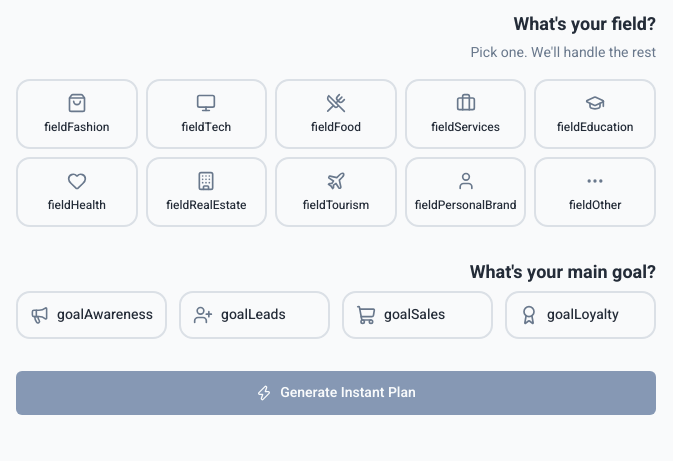
Scenario: ExpressWizard › shows auto-select info text after selecting both
The width and height of the screenshot is (673, 461).
Click the button "fieldFashion": [77, 114] box [16,79,138,149]
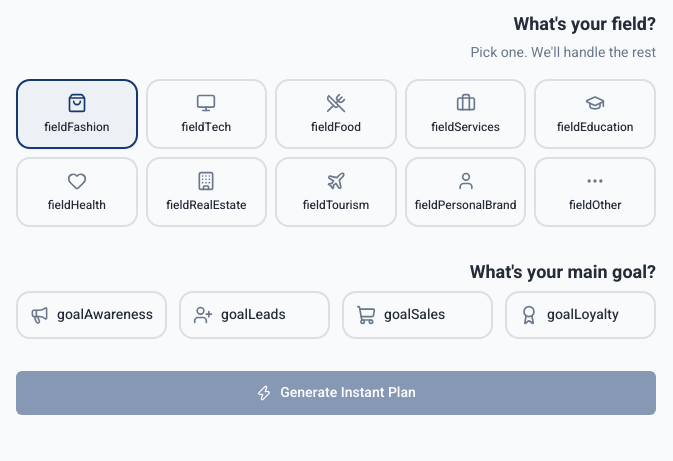
Click the button "goalAwareness": [92, 315] box [16,291,167,339]
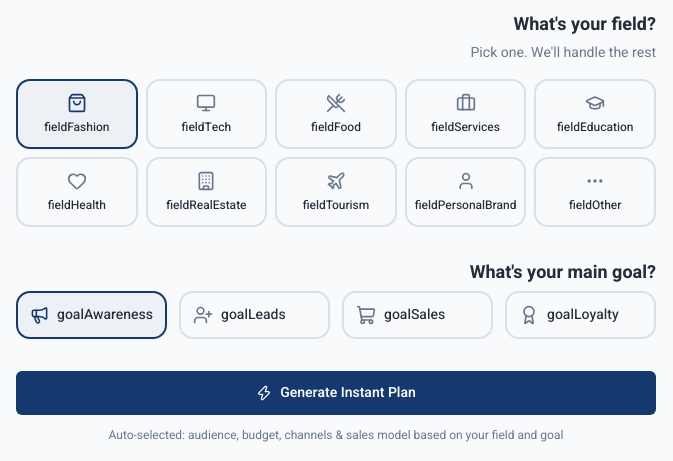
Check: the text "Auto-selected" is shown, box [109,426,564,444]
